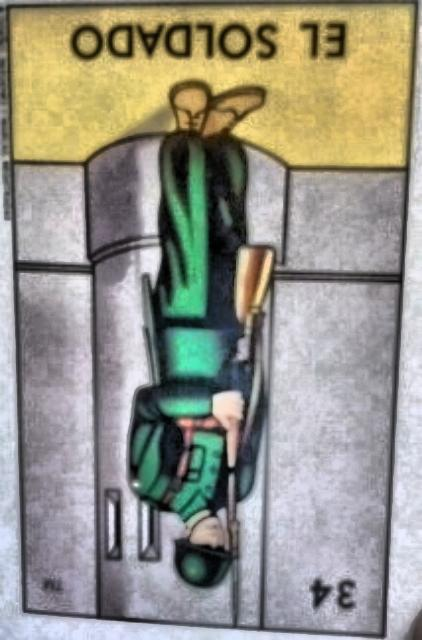El Soldado: (9, 1, 416, 638)
